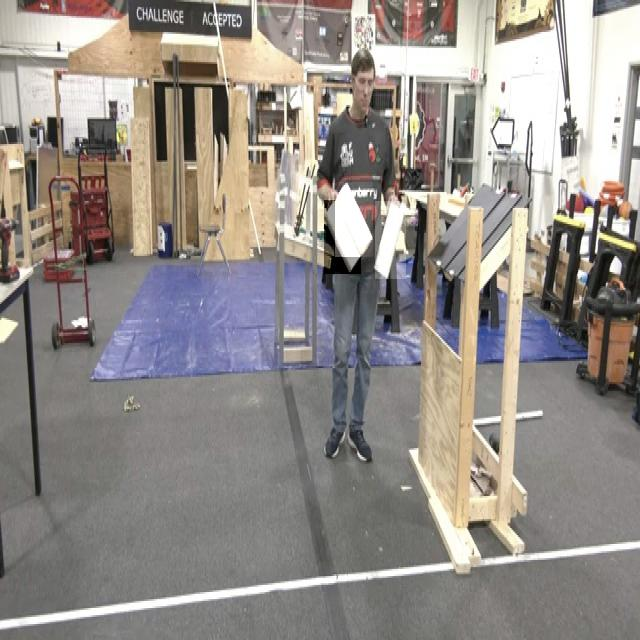Coral: (335, 182, 373, 257), (324, 200, 361, 274), (375, 201, 406, 279)
